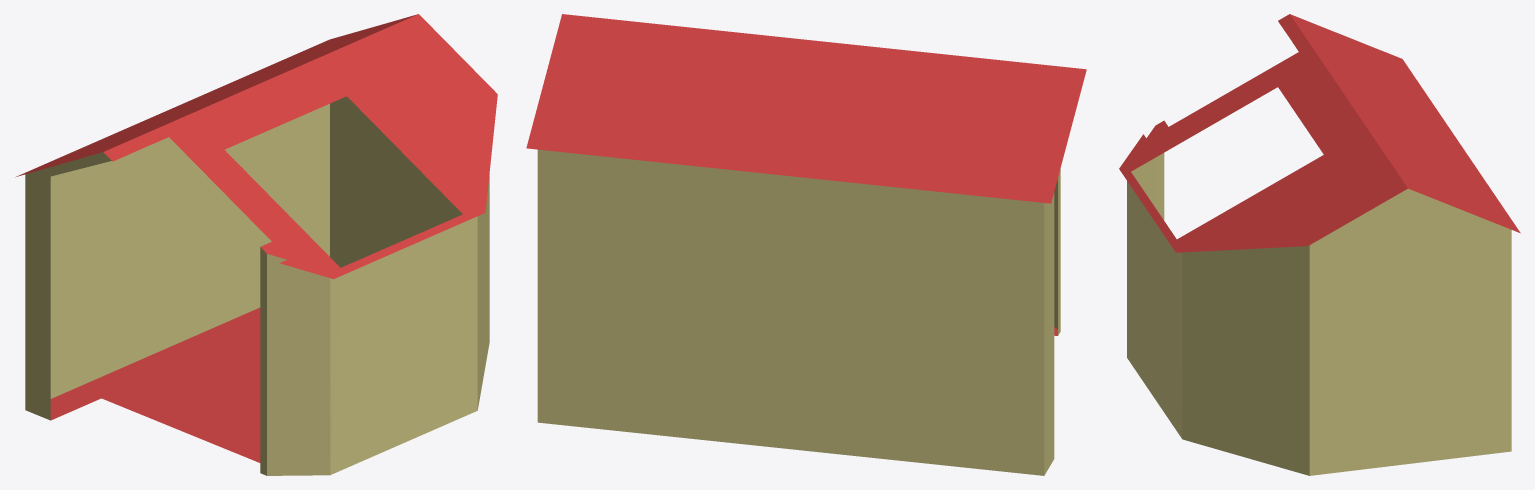
The picture shows the model from 3 angles, left to right: view 1: azimuth 30°, elevation 25°; view 2: azimuth 150°, elevation 25°; view 3: azimuth 270°, elevation 25°; orthographic projection. The views are drawn at different scales.
Bounding box in the file's own units: 15.81 × 13.4 × 10.26.
